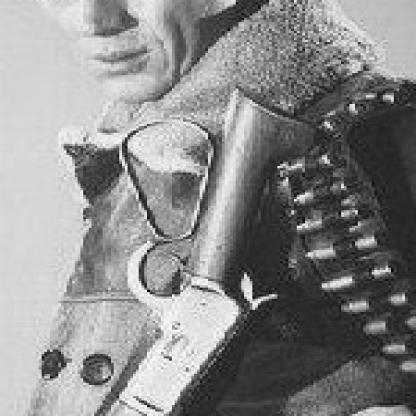gun: (0, 77, 333, 414)
